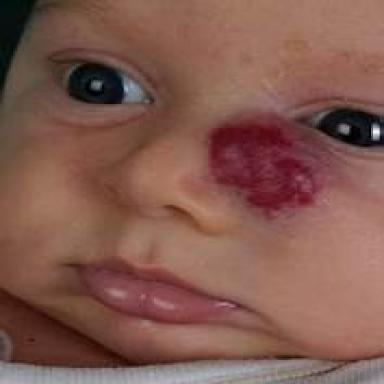Hemangiome: (208, 124, 318, 207)
